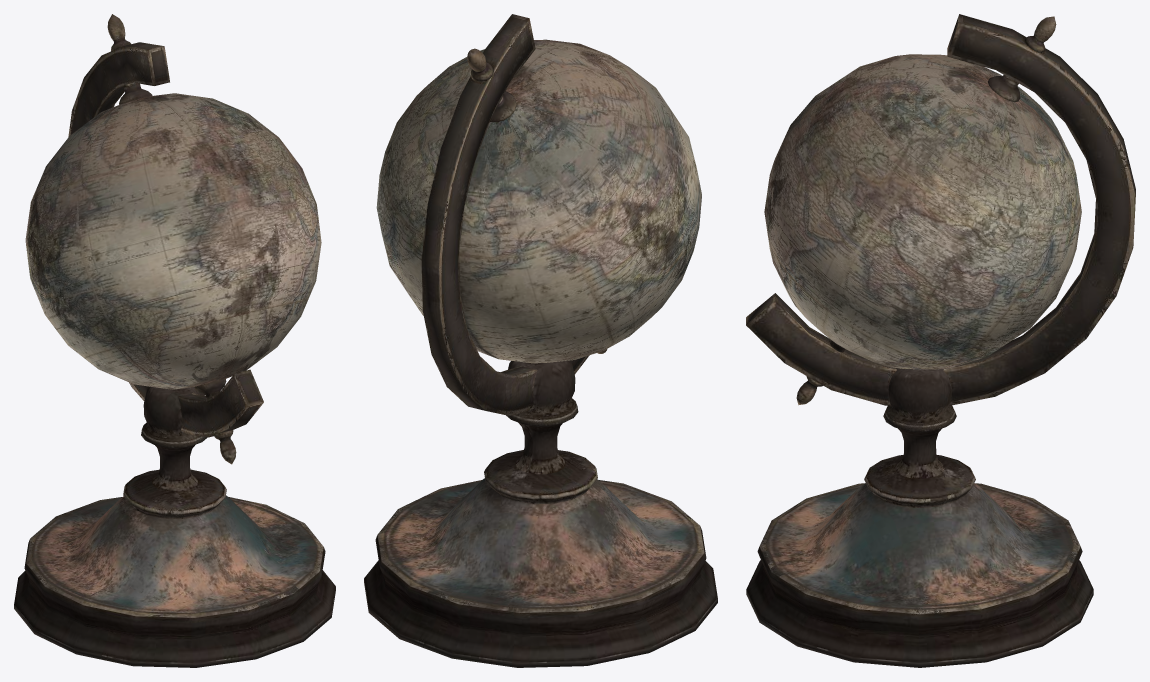
The model's file is globe.glb.
The picture shows the model from 3 angles, left to right: view 1: azimuth 30°, elevation 25°; view 2: azimuth 150°, elevation 25°; view 3: azimuth 270°, elevation 25°; orthographic projection. The views are drawn at different scales.
Visible parts, largest first — view 1: Line001; view 2: Line001; view 3: Line001.
Boxes of the visible parts, <box> form: Line001: <box>14,14,335,667</box>; Line001: <box>364,14,717,667</box>; Line001: <box>746,14,1135,667</box>.
Bounding box in the file's own units: 0.5446 × 1 × 0.6109.
1 material, 1 textured.
